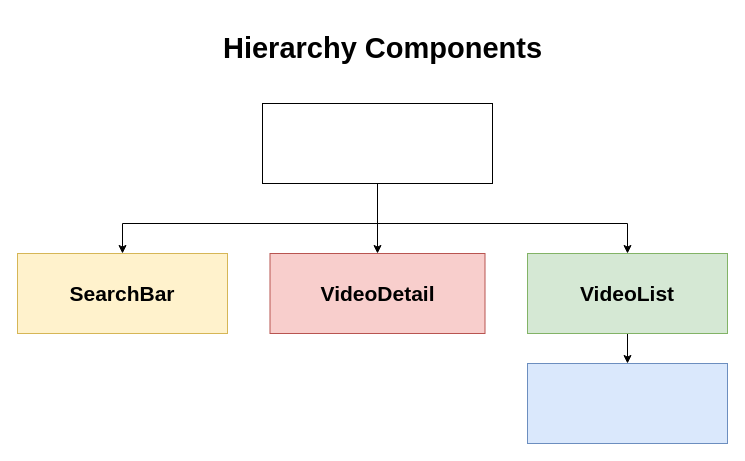
Image size: 745x461. Some labels were removed from this diagram. The shapes that lost their labels are listed below. From the top down, each one's box as (x1, y1, x2, y2) in pixels, then its label:
(262, 102, 492, 184): APP
(526, 362, 728, 444): VideoItem
